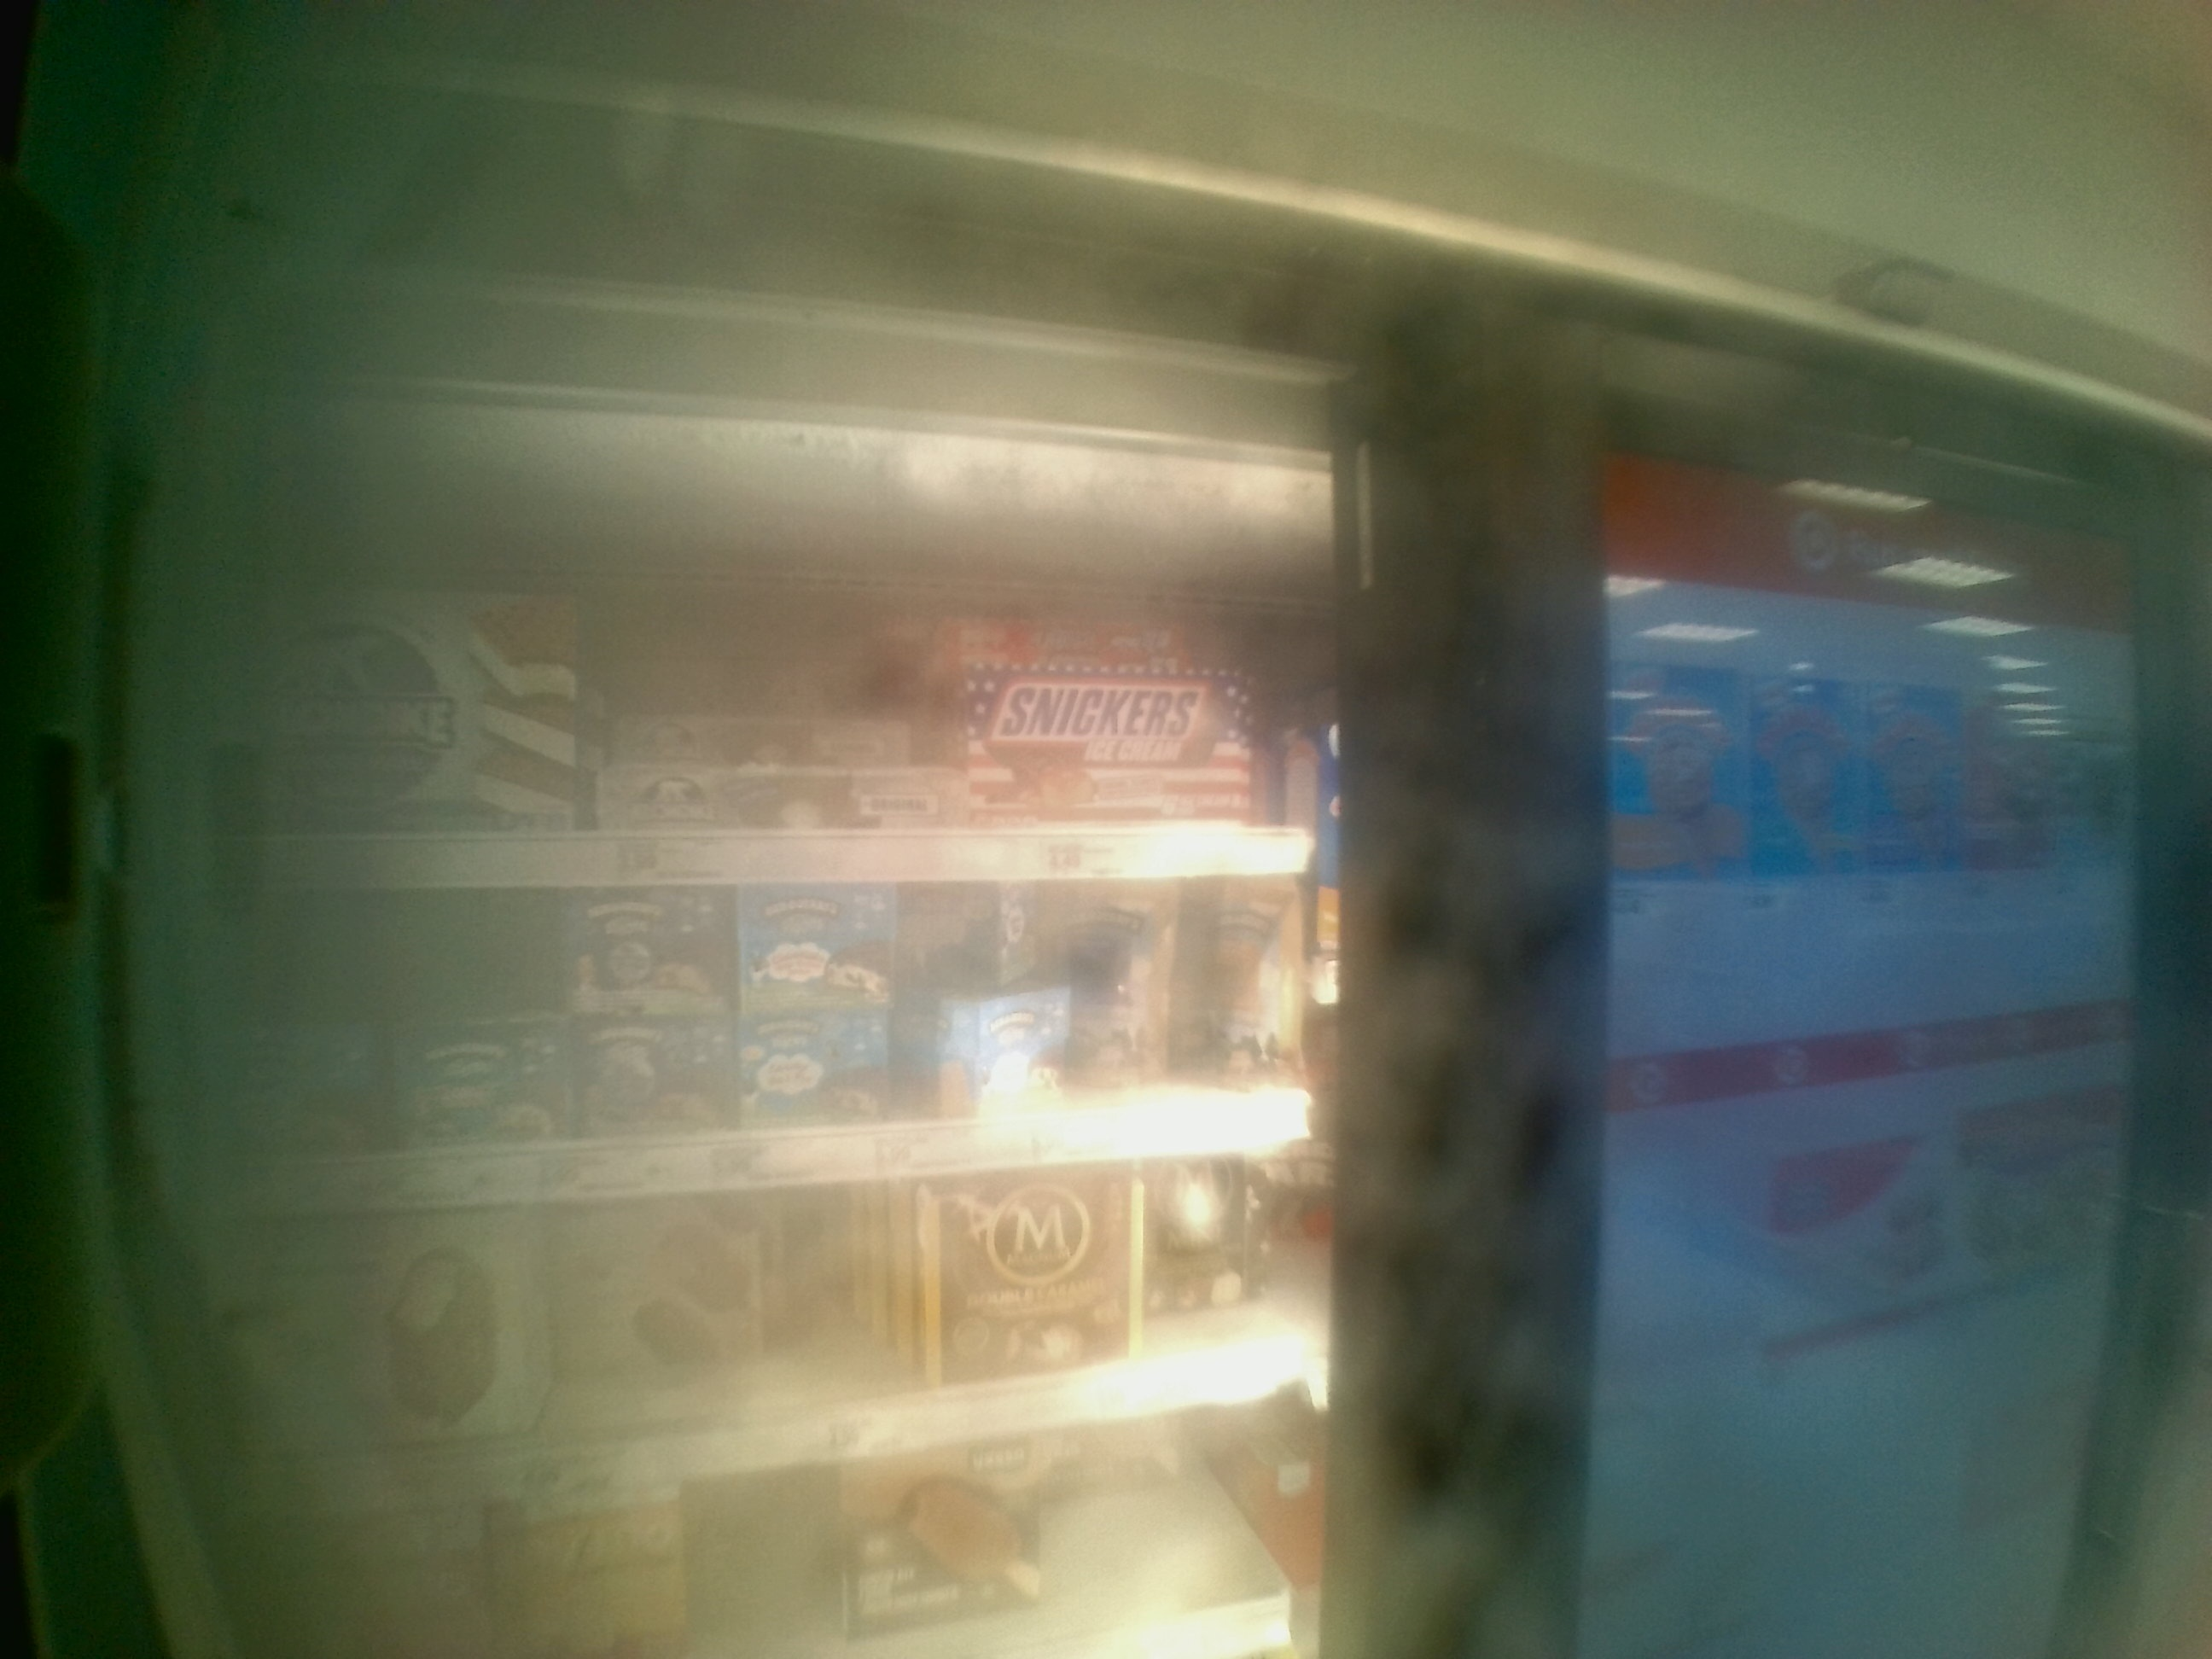shelf: (225, 436, 1322, 882), (225, 884, 1327, 1202)
